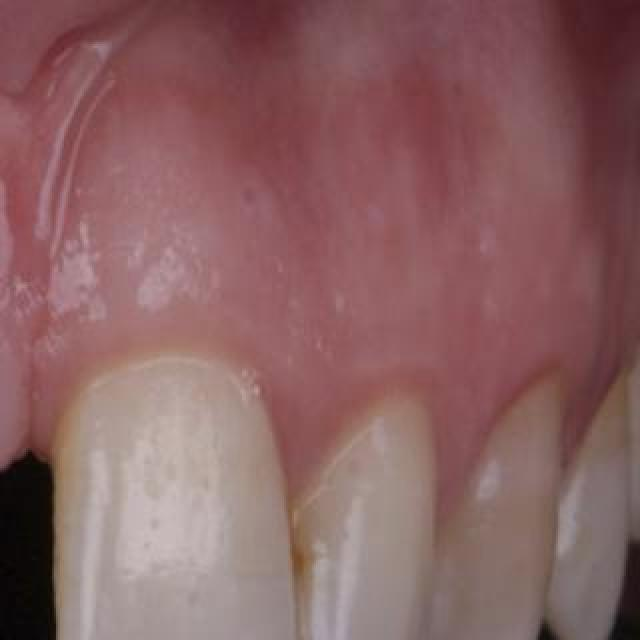spacing: (0, 344, 104, 640)
stains: (270, 470, 364, 632)
